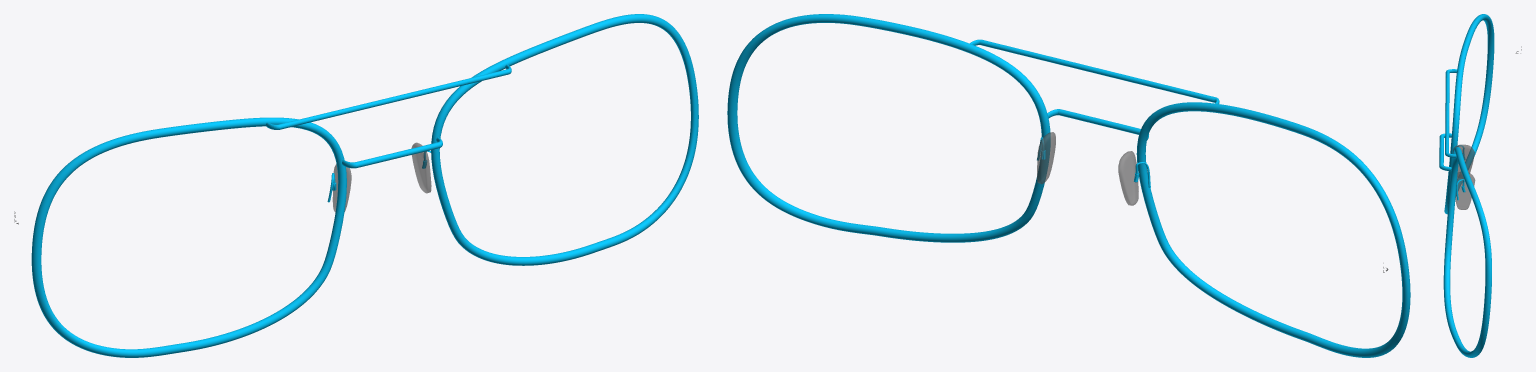
File: custom-frame-5.gltf
3 views of the same model, side by side, from view 1: azimuth 30°, elevation 25°; view 2: azimuth 150°, elevation 25°; view 3: azimuth 270°, elevation 25° (orthographic). The views are drawn at different scales.
Parts seen in each view (by area): view 1: BezierCurve, Cylinder, Cylinder.002, Cylinder.001; view 2: BezierCurve, Cylinder, Cylinder.002, Cylinder.001; view 3: BezierCurve, Cylinder.002, Cylinder, Cylinder.001, BezierCurve.002.
Part boxes in pixels (x1,y1,x2,y2): BezierCurve: [31, 14, 698, 357]; Cylinder: [266, 64, 511, 129]; Cylinder.002: [332, 142, 431, 212]; Cylinder.001: [342, 137, 442, 168]; BezierCurve: [727, 14, 1410, 357]; Cylinder: [970, 39, 1219, 103]; Cylinder.002: [1037, 132, 1138, 205]; Cylinder.001: [1047, 109, 1148, 140]; BezierCurve: [1443, 14, 1494, 357]; Cylinder.002: [1453, 144, 1475, 209]; Cylinder: [1445, 69, 1457, 158]; Cylinder.001: [1439, 133, 1451, 171]; BezierCurve.002: [1456, 145, 1465, 200].
Size of the model in its own units: 0.9896 by 0.3105 by 0.1452.
